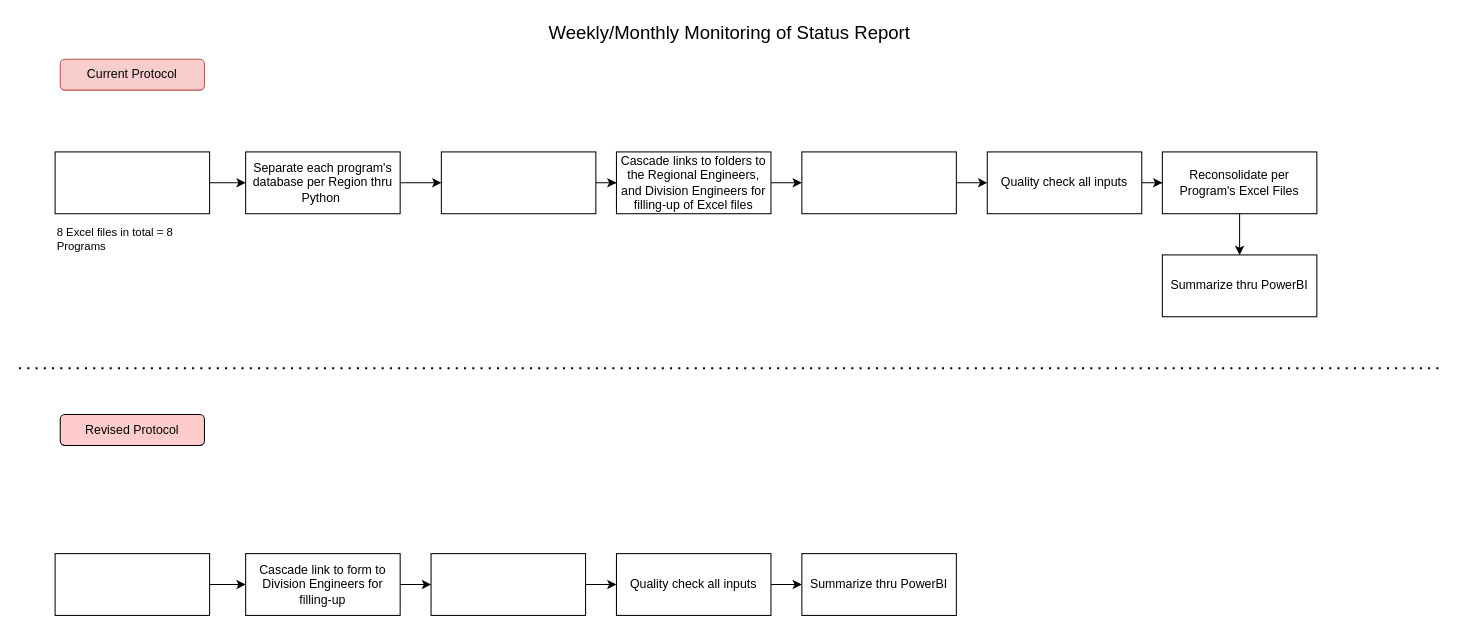
This 1460x633 diagram has some shape labels left out. Here are the shapes that lost their labels. From the top down, the centre of each, then its label:
At point (132, 182): "Excel file containing all allocated projects per Program".
At point (518, 182): "Upload per Region folders to SharePoint".
At point (878, 182): "Regional Engineers and Division Engineers manually input all data".
At point (132, 584): "Kobotoolbox Form (Offline and Online) / Microsoft Forms (Online only)".
At point (508, 584): "Provide access to responses to Regional Engineers for monitoring".
